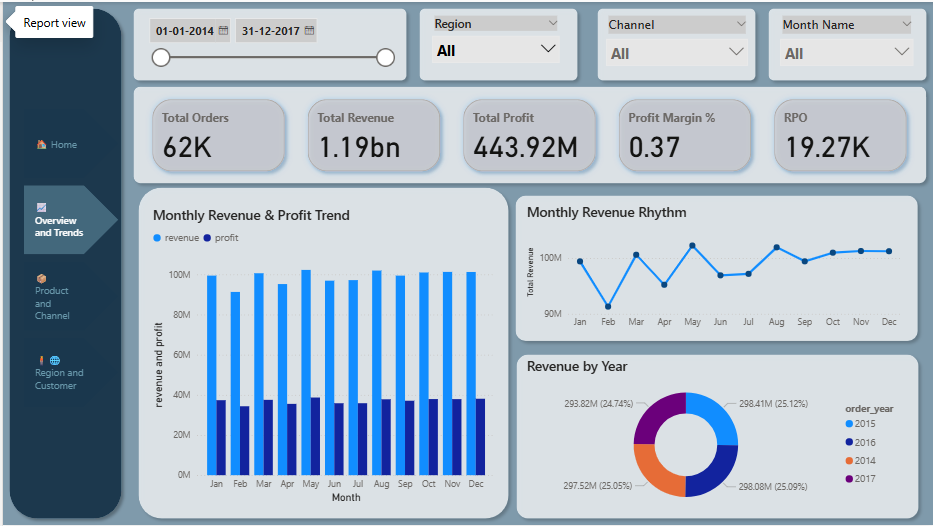

The page's visual inventory and layout, read from the dashboard file:
{"tool":"powerbi","page":{"name":" 📈   Overview and Trends","canvas":[1280,720],"ordinal":1},"visuals":[{"type":"shape","box":[170.8,107.7,1108.9,151.1],"z":0},{"type":"shape","box":[170.7,0,393.6,117],"z":1000},{"type":"shape","box":[564.3,0,235.4,117],"z":2000},{"type":"shape","box":[809.3,0,235.4,117],"z":3000},{"type":"shape","box":[1044.6,0,235.4,117],"z":4000},{"type":"shape","box":[177.5,246.4,527.1,473.5],"z":5000},{"type":"shape","box":[696.4,257.5,571.5,218.1],"z":6000},{"type":"shape","box":[697.8,476.2,571.2,243.6],"z":7000},{"type":"clusteredColumnChart","title":"Monthly Revenue & Profit Trend","fields":{"Category":["Sales Dashboard.Month Name"],"Y":["Sum(Sales Dashboard.revenue)","Sum(Sales Dashboard.profit)"]},"box":[201,279.9,480.9,415.2],"z":8000},{"type":"cardVisual","fields":{"Data":["Custom.Total Orders","Custom.Total Revenue","Custom.Total Profit","Custom.Profit Margin %","Custom.RPO"]},"box":[188.6,117,1072.2,133.5],"z":9000},{"type":"lineChart","title":"Monthly Revenue Rhythm","fields":{"Category":["Sales Dashboard.Month Name"],"Y":["Custom.Total Revenue"]},"box":[716.1,274.6,524.2,183.9],"z":10000},{"type":"donutChart","title":"Revenue by Year","fields":{"Category":["Sales Dashboard.order_year"],"Y":["Sum(Sales Dashboard.revenue)"]},"box":[716.1,487.4,533.4,219.4],"z":11000},{"type":"slicer","fields":{"Values":["Sales Dashboard.order_date"]},"box":[187.9,11.8,358.7,94.6],"z":12000},{"type":"slicer","fields":{"Values":["Sales Dashboard.region"]},"box":[580.8,14,195.4,93.6],"z":13000},{"type":"slicer","fields":{"Values":["Sales Dashboard.channel"]},"box":[819.7,13.4,215,94.1],"z":14000},{"type":"slicer","fields":{"Values":["Sales Dashboard.Month Name"]},"box":[1059.9,13.4,203.3,94.1],"z":15000},{"type":"shape","title":"menu bg","box":[0,0,172,720],"z":16000},{"type":"pageNavigator","title":"menu buttons","box":[29.3,146.7,130.7,412],"z":17000}]}

Visuals, with their boxes on the page's 1280x720 design canvas (x1, y1, x2, y2). These are canvas units, not pixel positions in the 933x526 screenshot, which may show the page scaled, cropped or inside an application window:
shape: x1=171, y1=108, x2=1280, y2=259
shape: x1=171, y1=0, x2=564, y2=117
shape: x1=564, y1=0, x2=800, y2=117
shape: x1=809, y1=0, x2=1045, y2=117
shape: x1=1045, y1=0, x2=1280, y2=117
shape: x1=178, y1=246, x2=705, y2=720
shape: x1=696, y1=258, x2=1268, y2=476
shape: x1=698, y1=476, x2=1269, y2=720
"Monthly Revenue & Profit Trend" clusteredColumnChart: x1=201, y1=280, x2=682, y2=695
cardVisual - Custom.Total Orders x Custom.Total Revenue: x1=189, y1=117, x2=1261, y2=250
"Monthly Revenue Rhythm" lineChart: x1=716, y1=275, x2=1240, y2=458
"Revenue by Year" donutChart: x1=716, y1=487, x2=1250, y2=707
slicer - Sales Dashboard.order_date: x1=188, y1=12, x2=547, y2=106
slicer - Sales Dashboard.region: x1=581, y1=14, x2=776, y2=108
slicer - Sales Dashboard.channel: x1=820, y1=13, x2=1035, y2=108
slicer - Sales Dashboard.Month Name: x1=1060, y1=13, x2=1263, y2=108
"menu bg" shape: x1=0, y1=0, x2=172, y2=720
"menu buttons" pageNavigator: x1=29, y1=147, x2=160, y2=559
